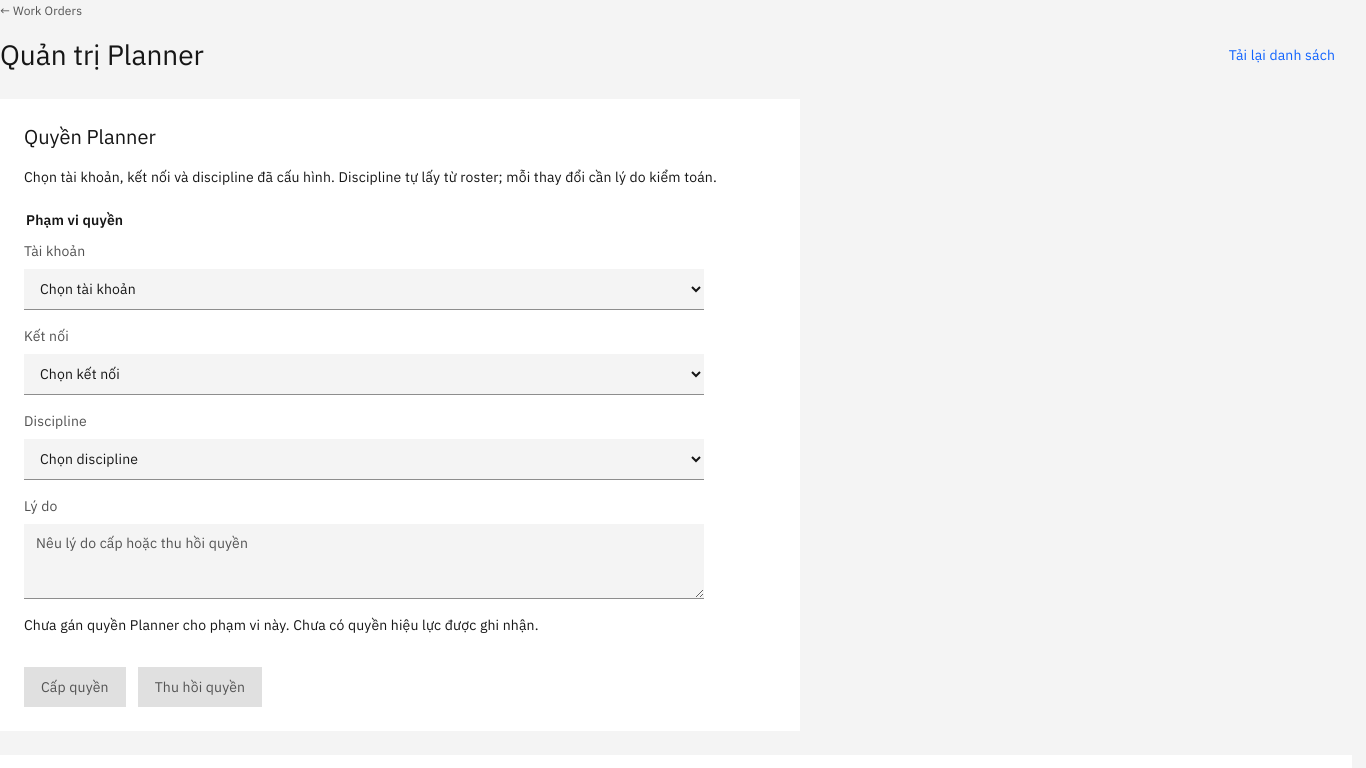
requires a reason and reloads confirmed assignment state after a change
Select "Planner" in the dropdown labelled "Tài khoản" at [364, 290], box [24,269,704,310]
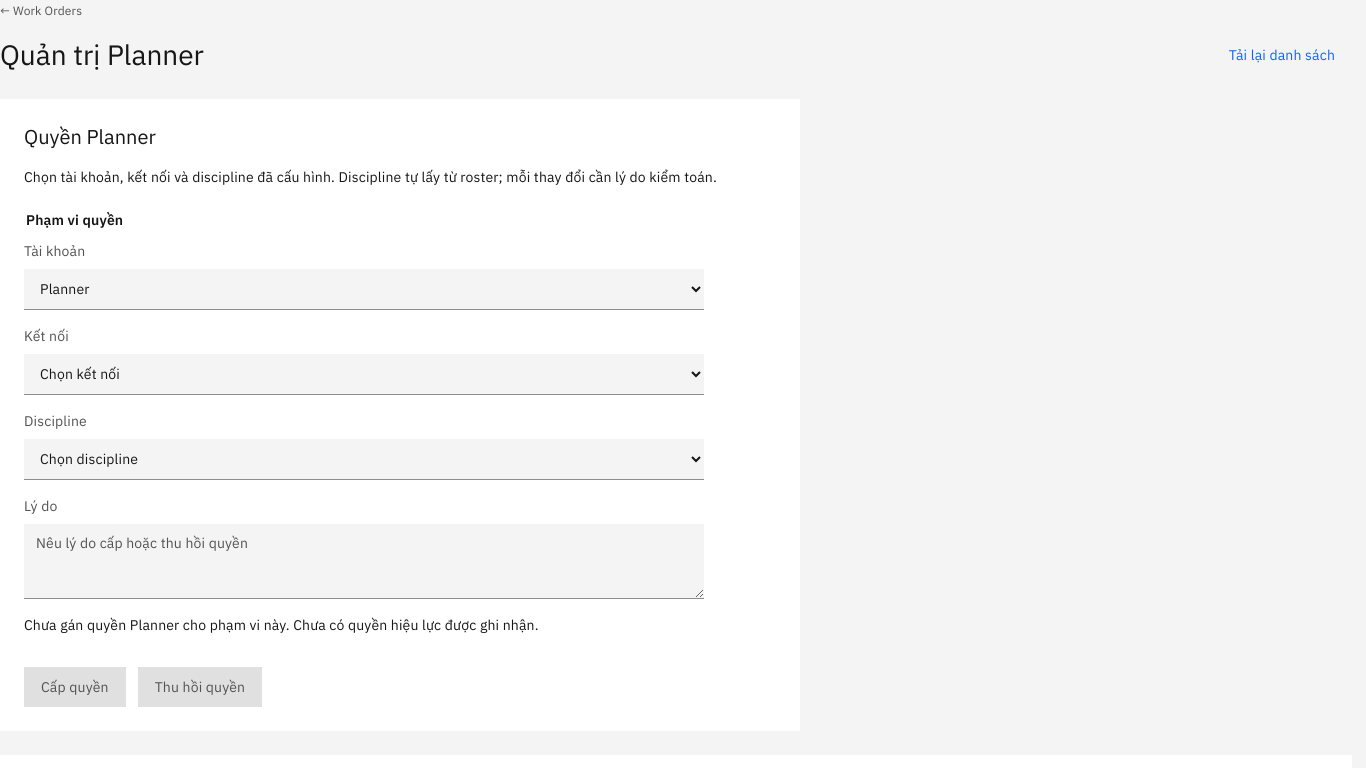
Select "Onshore test · onshore · test" in the dropdown labelled "Kết nối" at [364, 374], box [24,354,704,395]
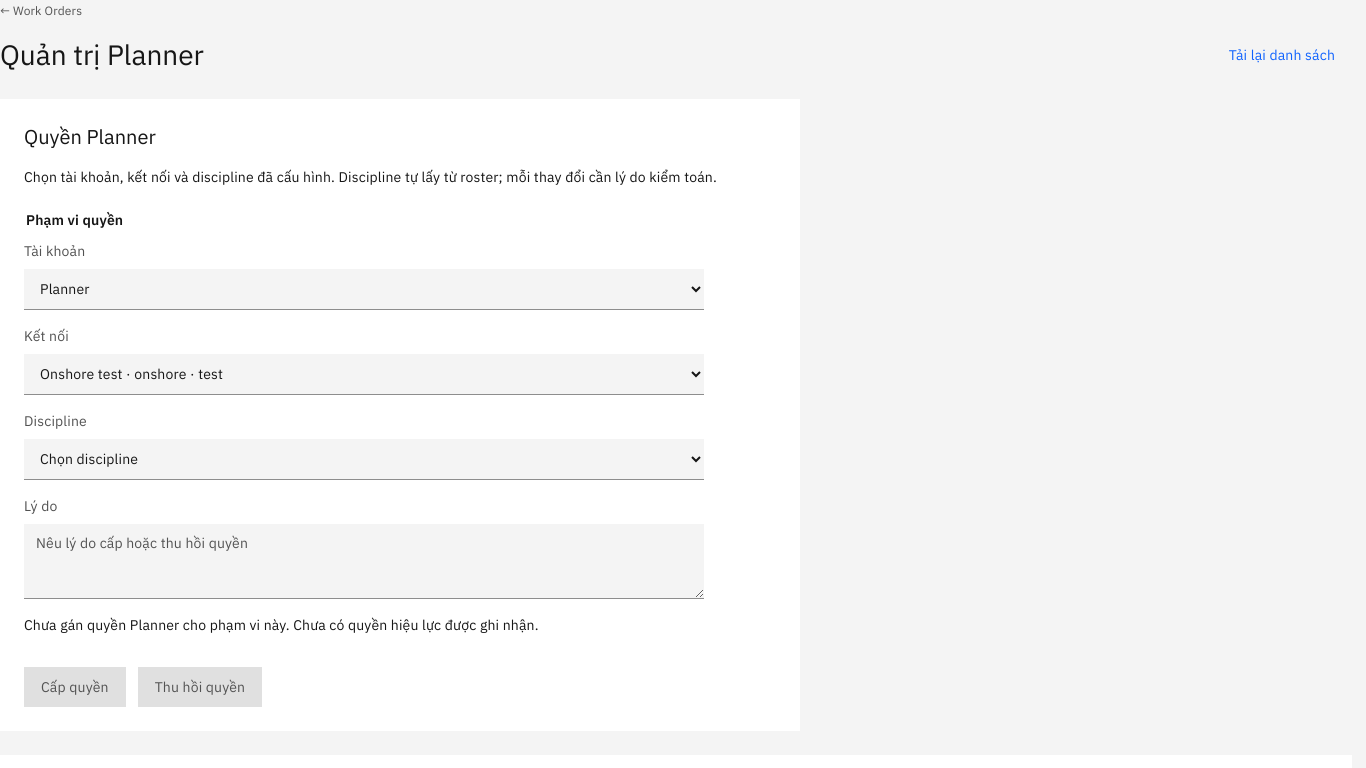
Select "E&I" in the dropdown labelled "Discipline" at [364, 460], box [24,439,704,480]
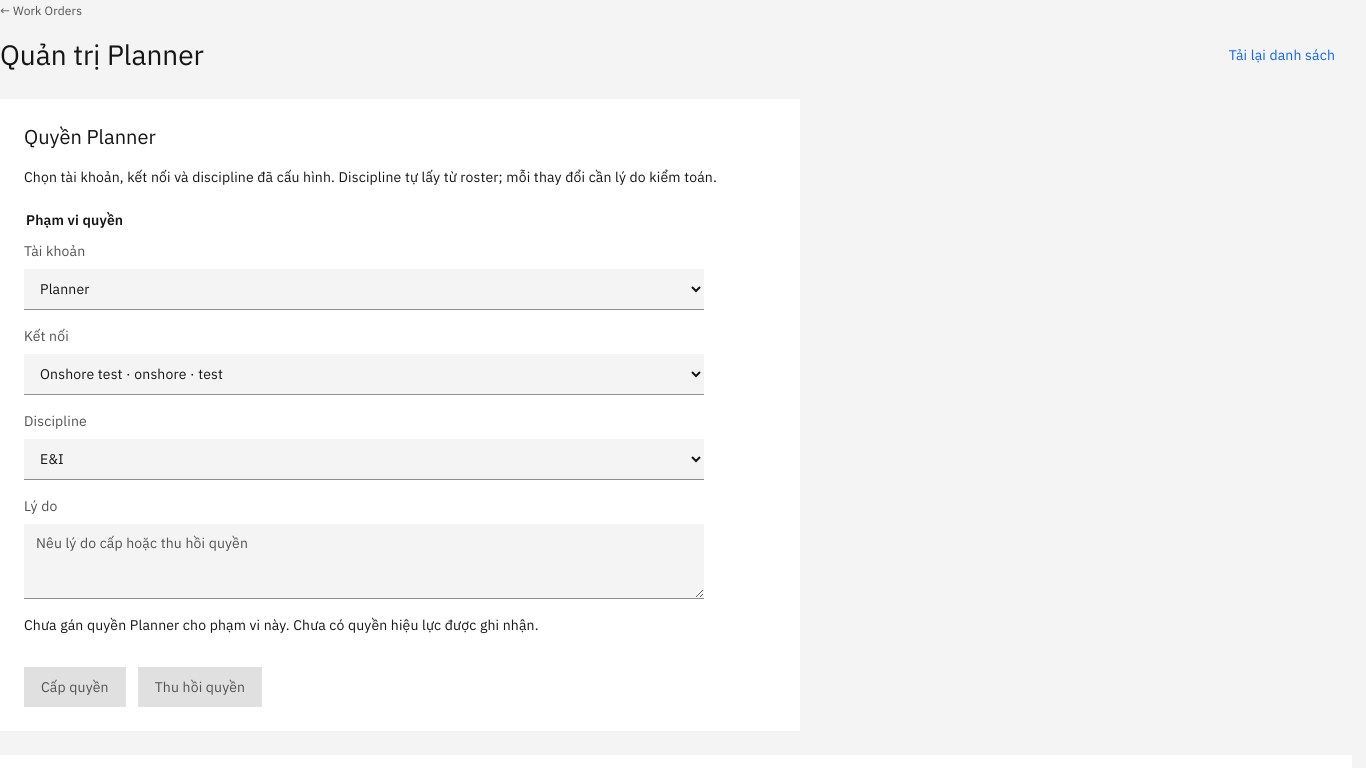
Expected: the button "Cấp quyền" is disabled, [24,667,126,707]
Type "Approved by operations" into the text box labelled "Lý do".
click(364, 562); type("Approved by operations")  # box [24,524,704,599]
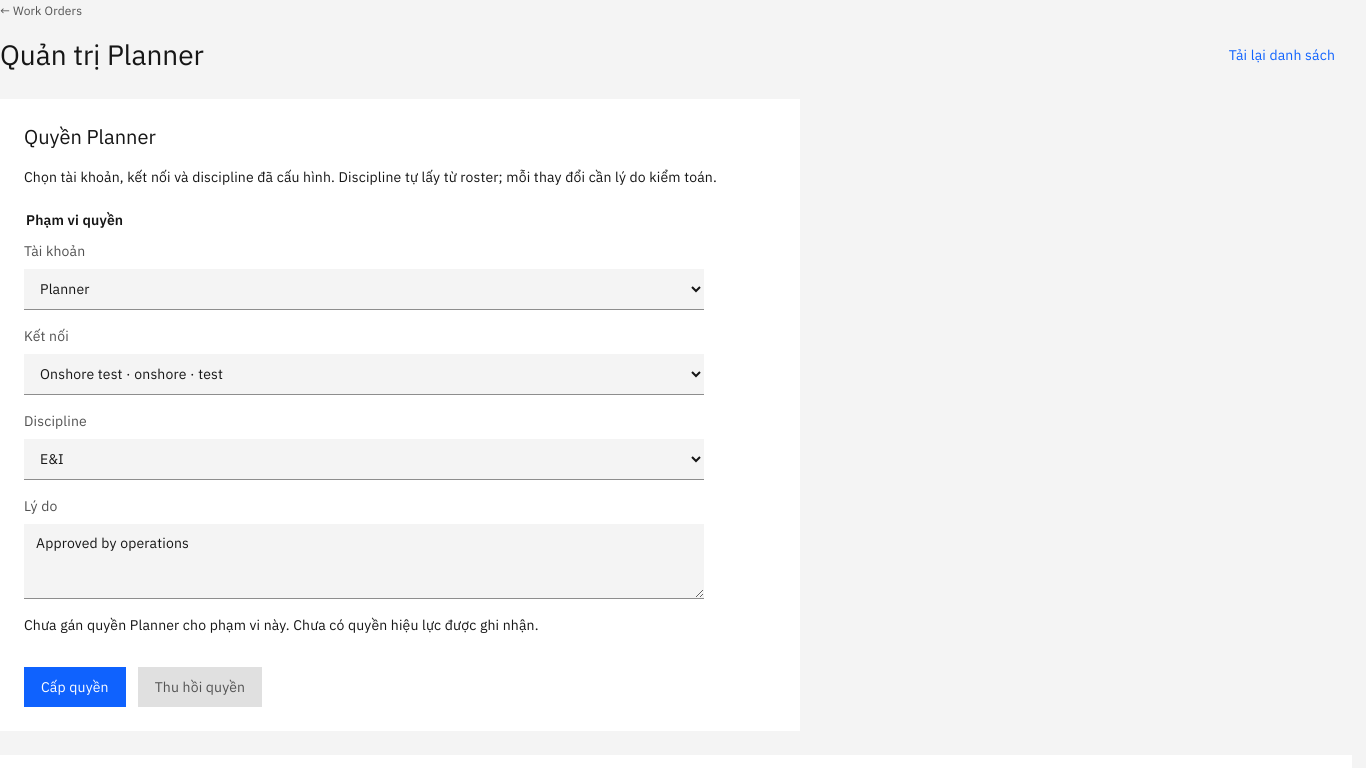
Click the button "Cấp quyền".
click(75, 687)  # box [24,667,126,707]
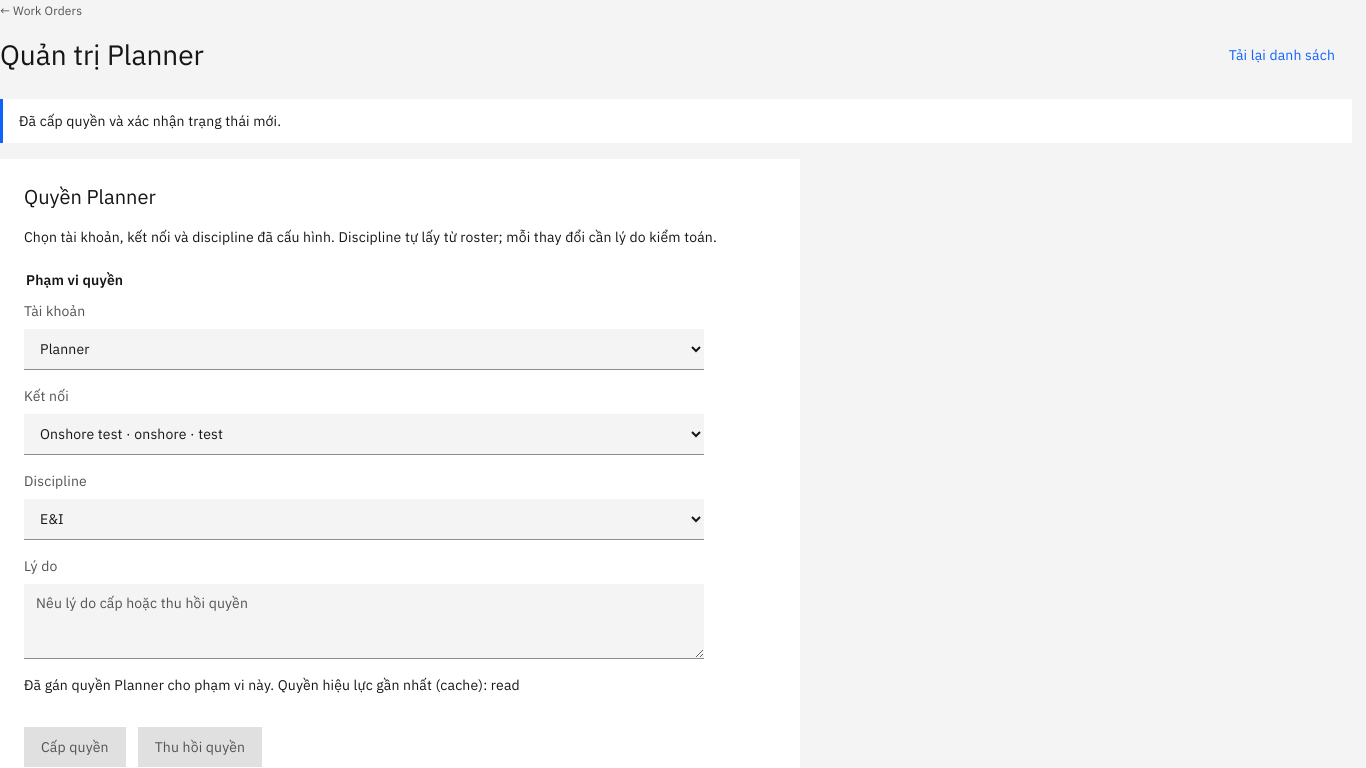
Result: the text "Đã cấp quyền và xác nhận trạng thái mới." is shown at [0,99,1352,143]
Result: the text "Đã gán quyền Planner" is shown at [24,676,274,694]
Result: the text "Quyền hiệu lực gần nhất (cache): read" is shown at [278,676,520,694]
Type "Planner changed assignment" into the text box labelled "Lý do".
click(364, 622); type("Planner changed assignment")  # box [24,584,704,659]
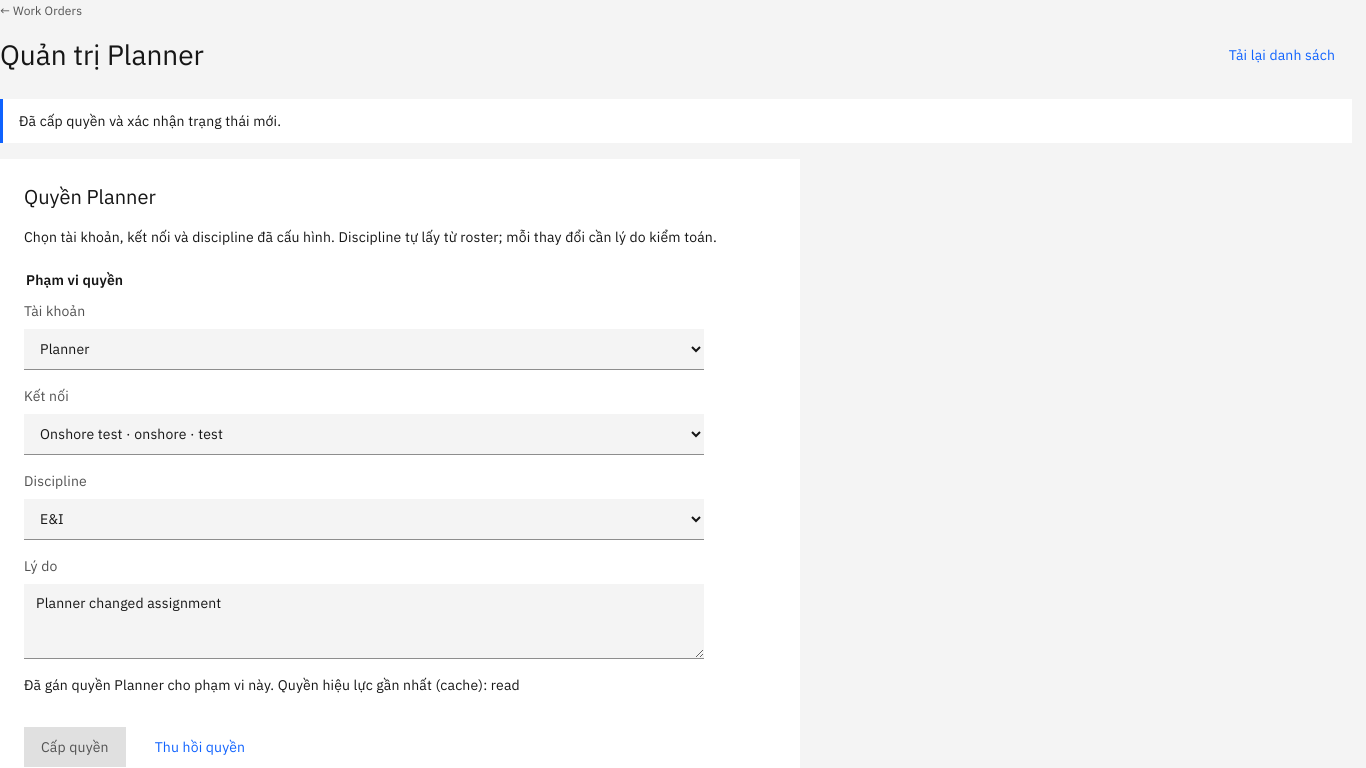
Result: the button "Thu hồi quyền" is enabled at [138,727,262,767]
